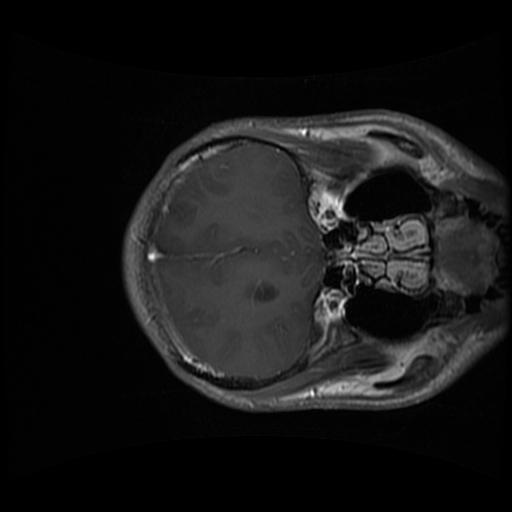glioma: (243, 276, 281, 304)
